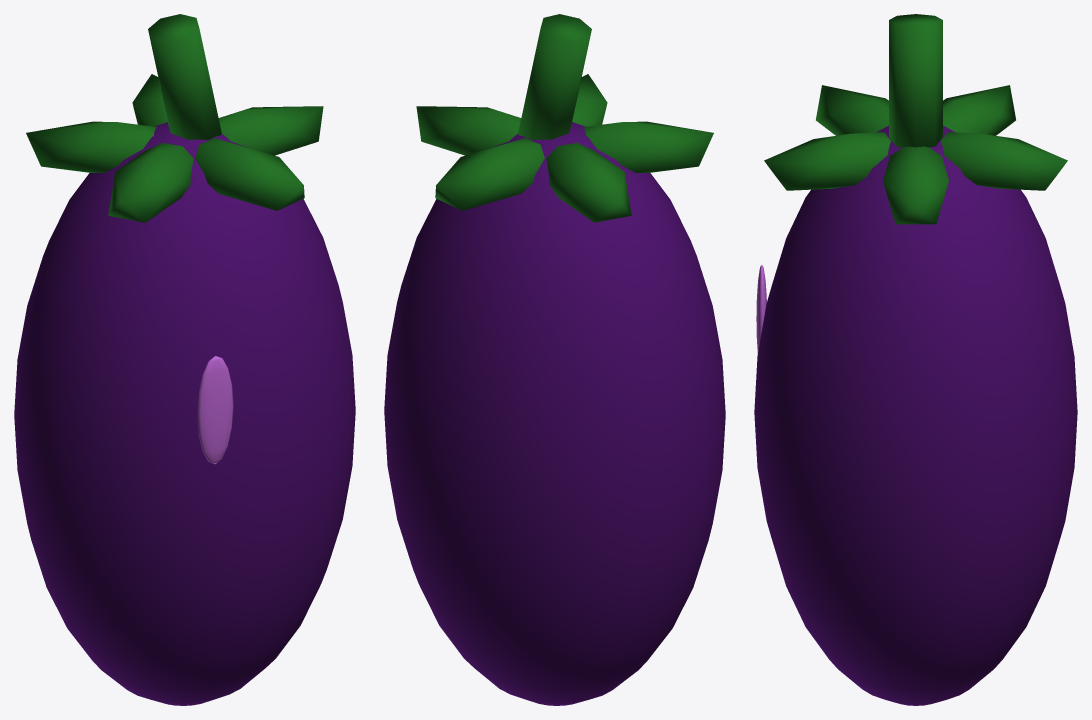
File: eggplant.glb
3 views of the same model, side by side, from view 1: azimuth 30°, elevation 25°; view 2: azimuth 150°, elevation 25°; view 3: azimuth 270°, elevation 25° (orthographic).
Visible parts, largest first — view 1: eggplant; view 2: eggplant; view 3: eggplant.
Part boxes in pixels (box(x1,y1,x2,y2)): eggplant: box(14, 14, 355, 705); eggplant: box(384, 14, 725, 705); eggplant: box(754, 14, 1077, 705).
Size of the model in its own units: 0.4651 by 1 by 0.433.
1 material, 1 textured.
